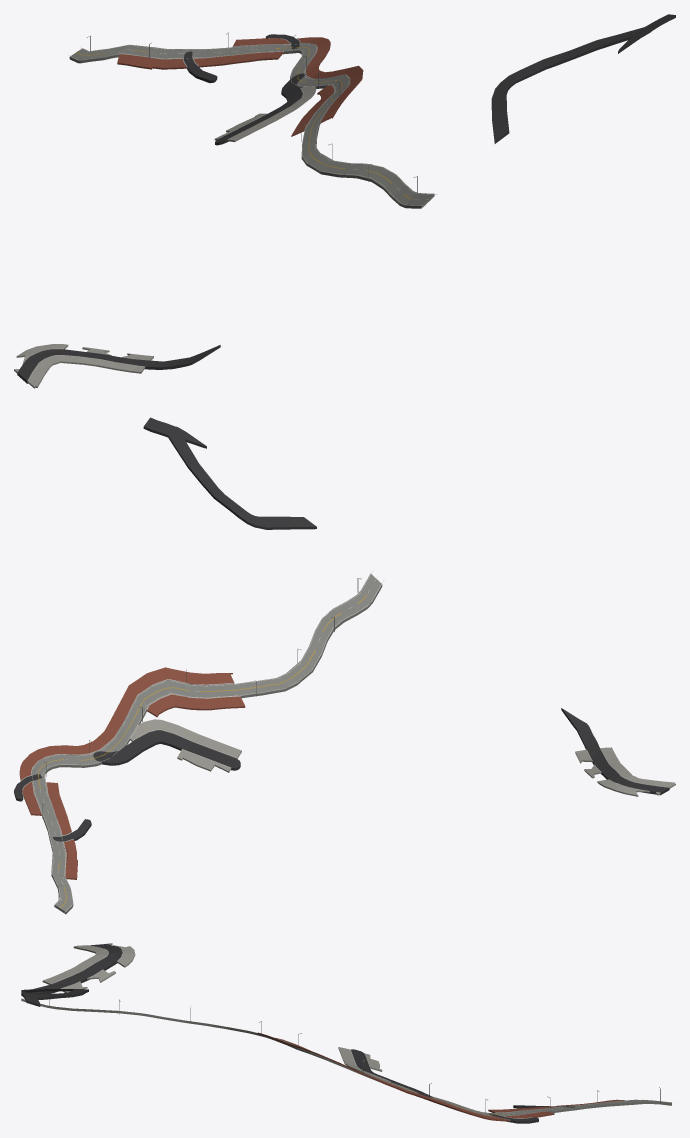
The model's file is 17-109452-59455.9cbf2ead.glb.
The picture shows the model from 3 angles, top to bottom: view 1: azimuth 30°, elevation 25°; view 2: azimuth 150°, elevation 25°; view 3: azimuth 270°, elevation 25°; orthographic projection. The views are drawn at different scales.
Size of the model in its own units: 293 by 111 by 297.
